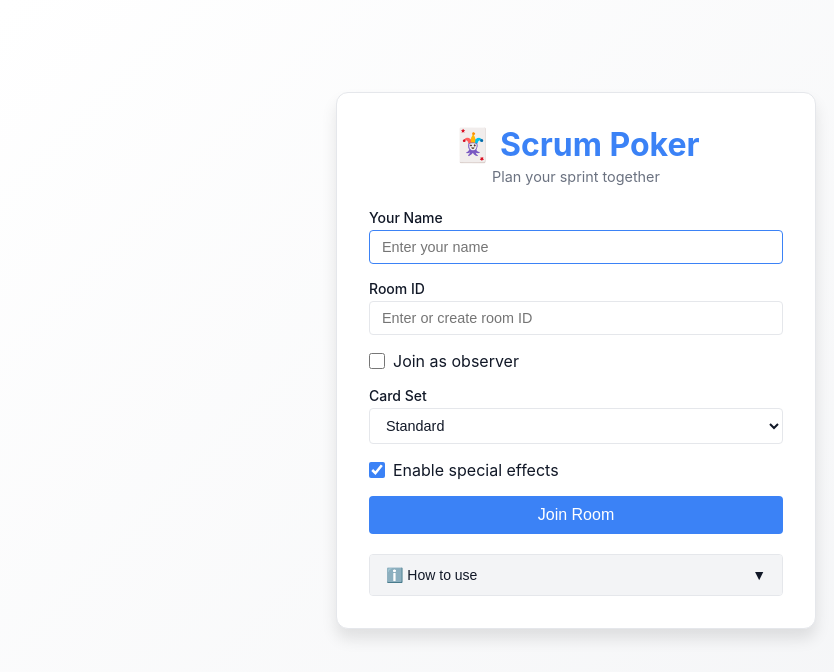
Test: WelcomeScreen › shows error if name is empty
This screenshot has width=834, height=672.
What coordinates should you click on to do the following:
click the button "Join Room"
I would click on:
 (576, 514)
Its box is [369,496,783,534].
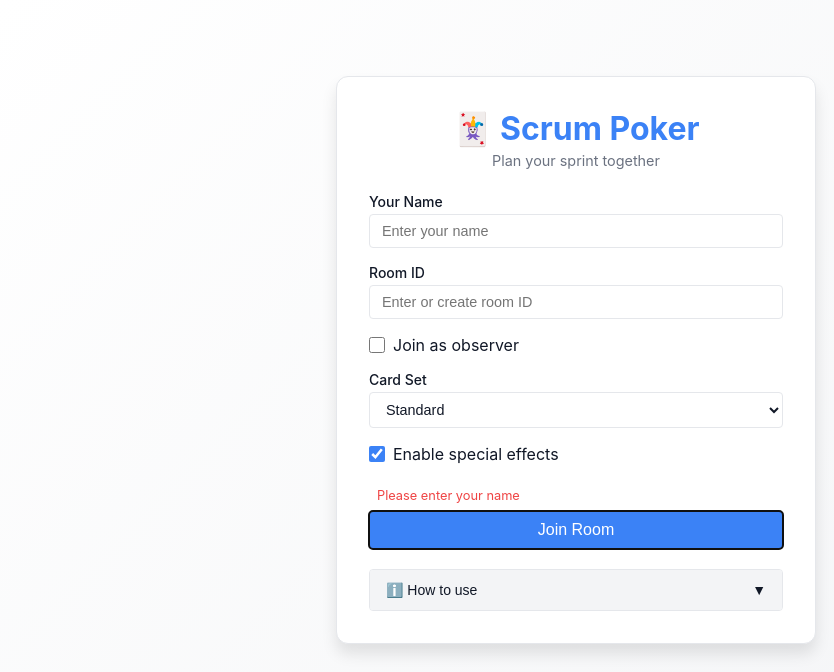
Check: the message reads "Please enter your name", box [377,488,520,503]
